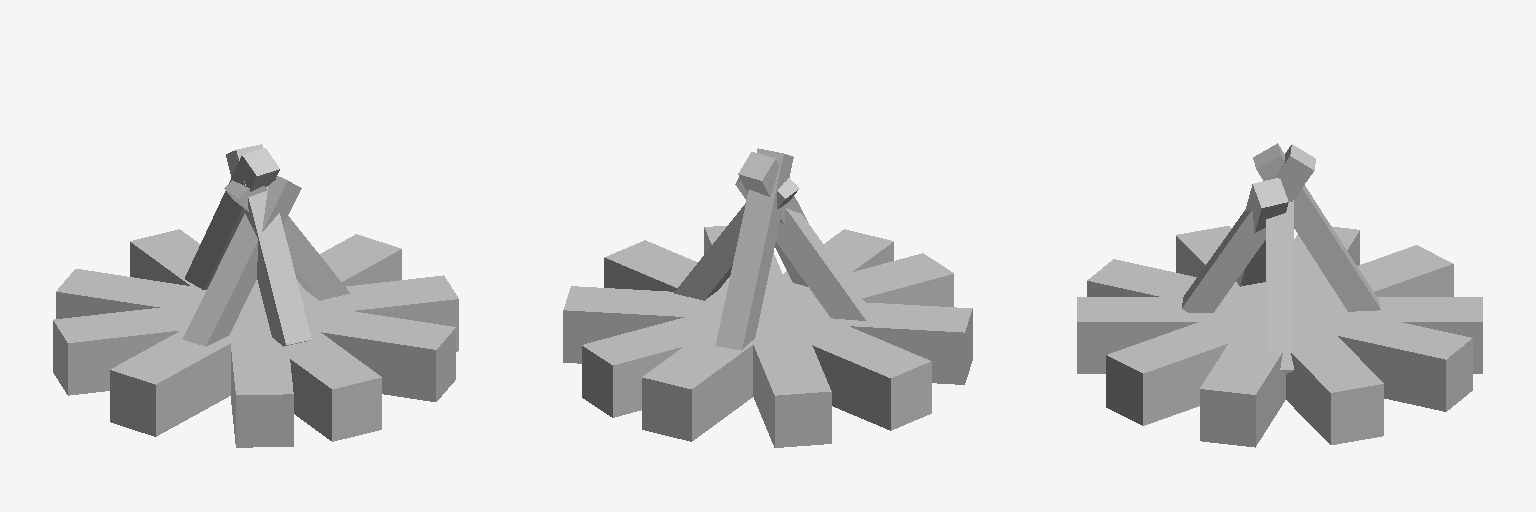
File: campfire.obj
The picture shows the model from 3 angles: view 1: azimuth 30°, elevation 25°; view 2: azimuth 150°, elevation 25°; view 3: azimuth 270°, elevation 25°; orthographic projection.
Visible parts, largest first — view 1: cube; view 2: cube; view 3: cube.
Part boxes in pixels (left/top/right/bottom): cube: left=53, top=144, right=458, bottom=447; cube: left=563, top=148, right=972, bottom=447; cube: left=1077, top=143, right=1482, bottom=447.
Bounding box in the file's own units: 0.8775 × 0.5043 × 0.875.